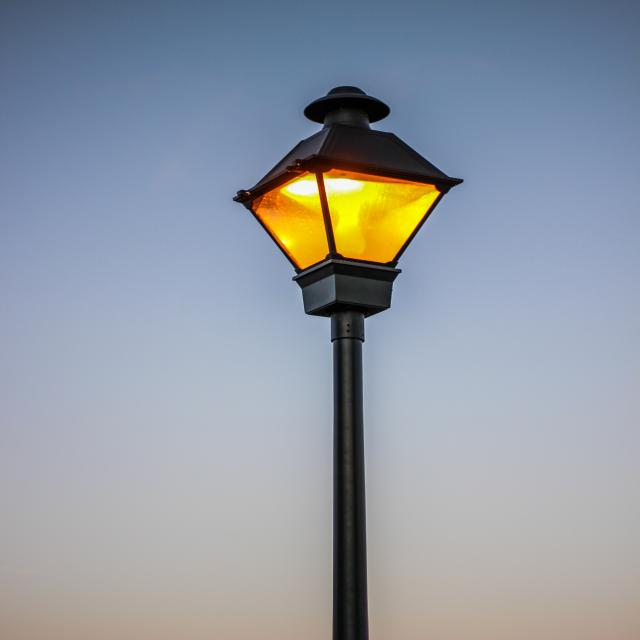Street Light: (232, 86, 462, 640)
